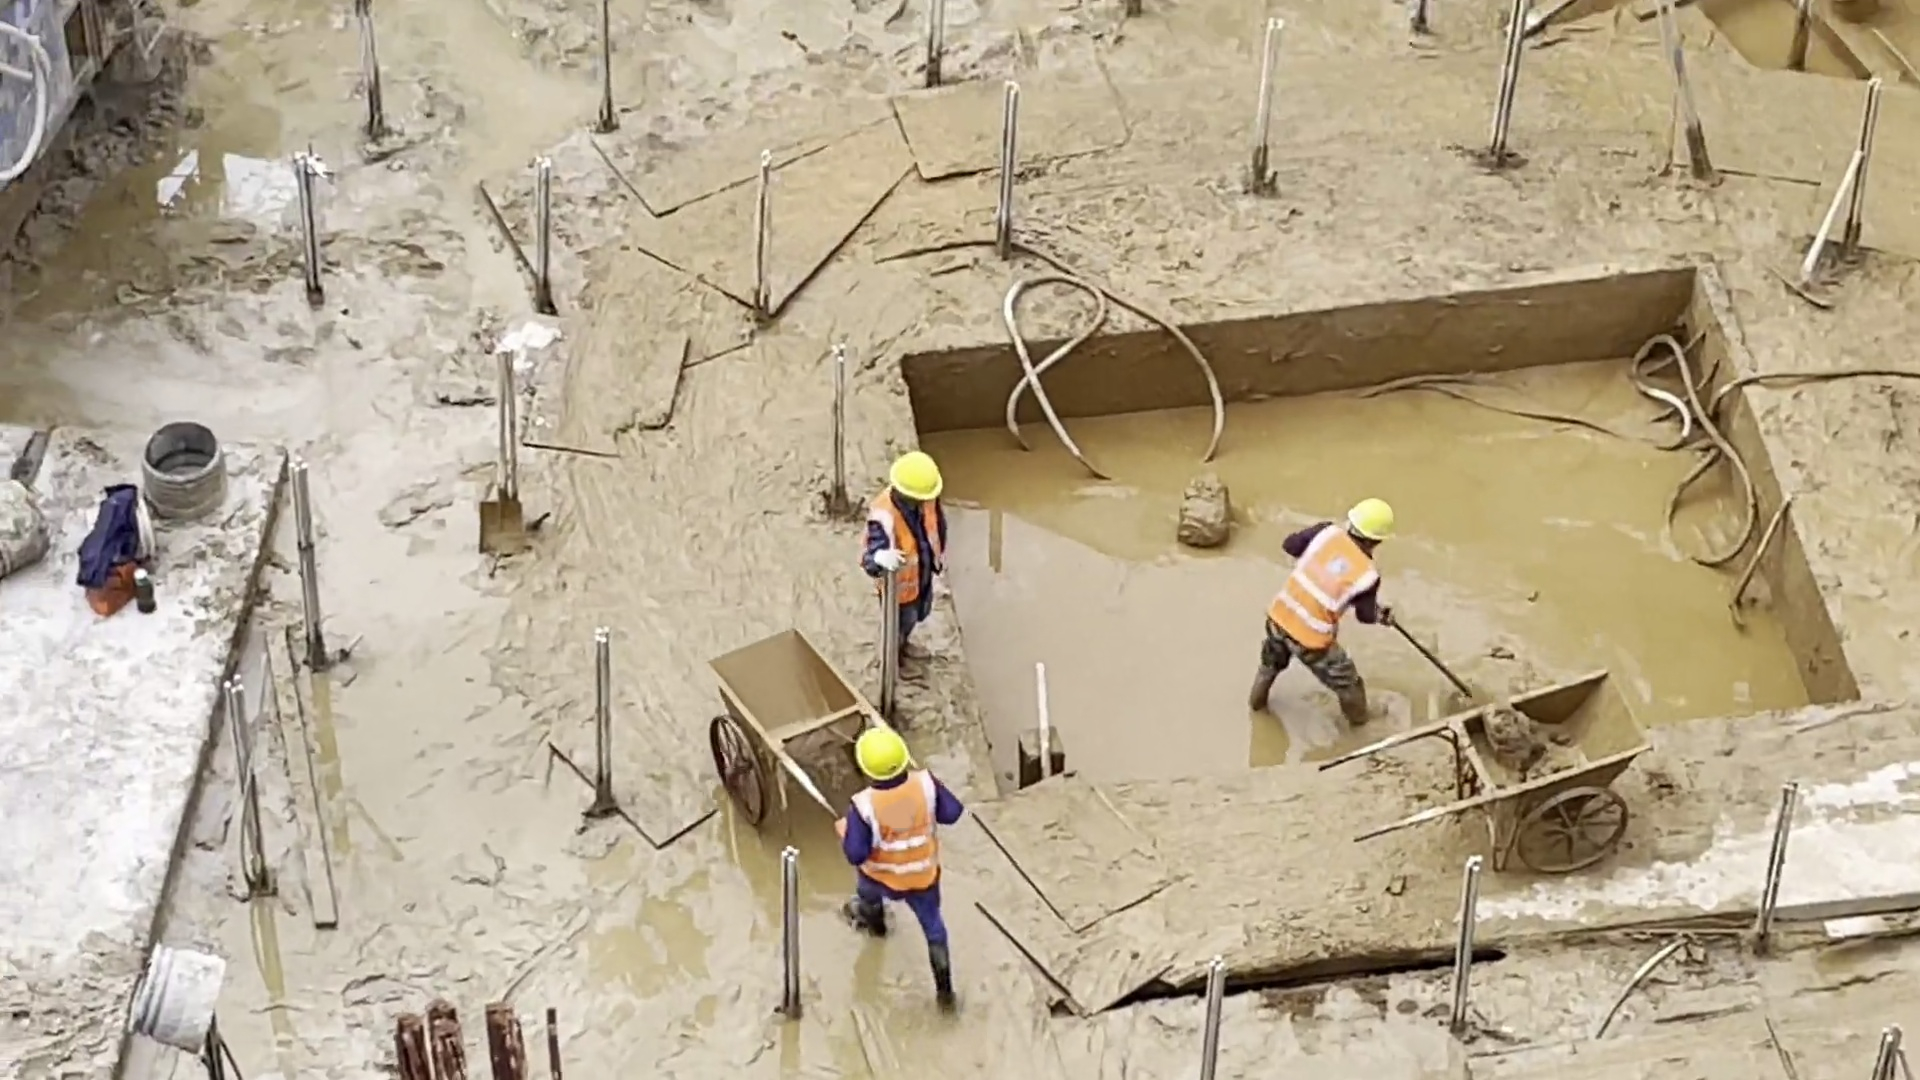handcart: (1317, 670, 1653, 870), (700, 623, 860, 825)
helmet: (855, 727, 910, 781), (890, 451, 944, 501), (1348, 498, 1399, 543)
person: (836, 725, 968, 1036), (1242, 496, 1386, 725), (855, 445, 951, 685)
vest: (1273, 526, 1373, 648), (848, 768, 938, 892), (858, 487, 949, 602)
